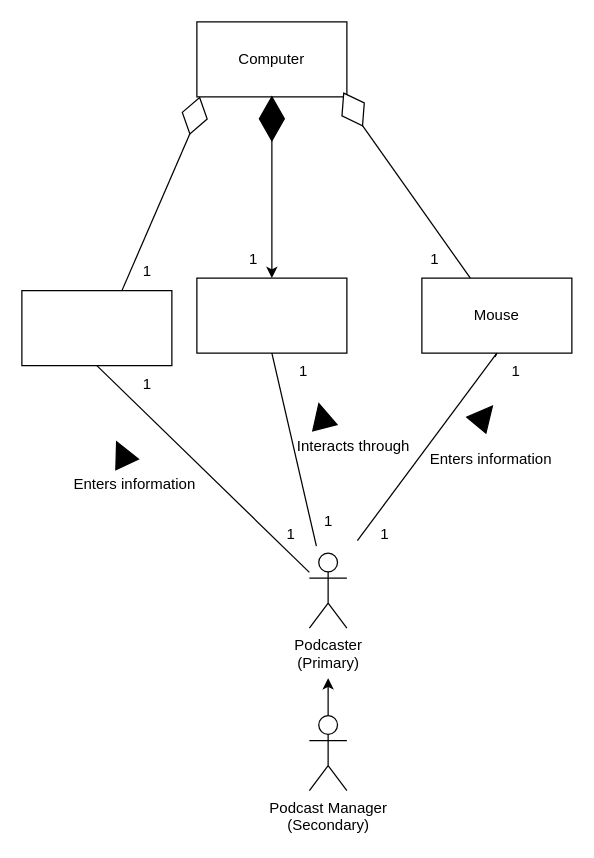
Some shapes in this 594 by 858 pixel diagram are drawn without their labels. The centre of each missing label's shape, as x and y in pixels:
Display: the point at 271,315
Keyboard: the point at 96,327
